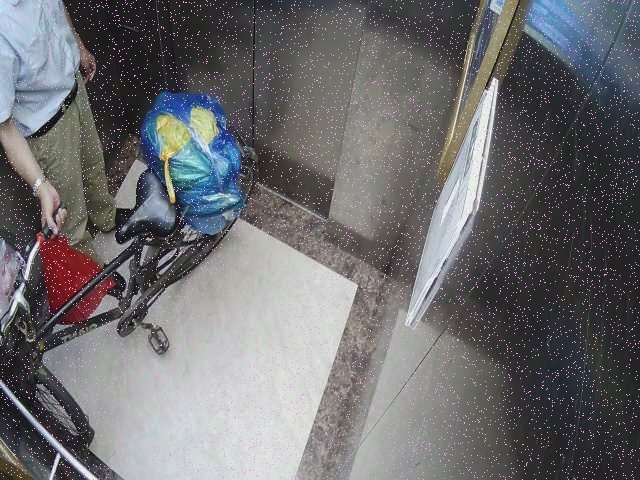bicycle: (2, 131, 256, 446)
person: (1, 1, 134, 252)
